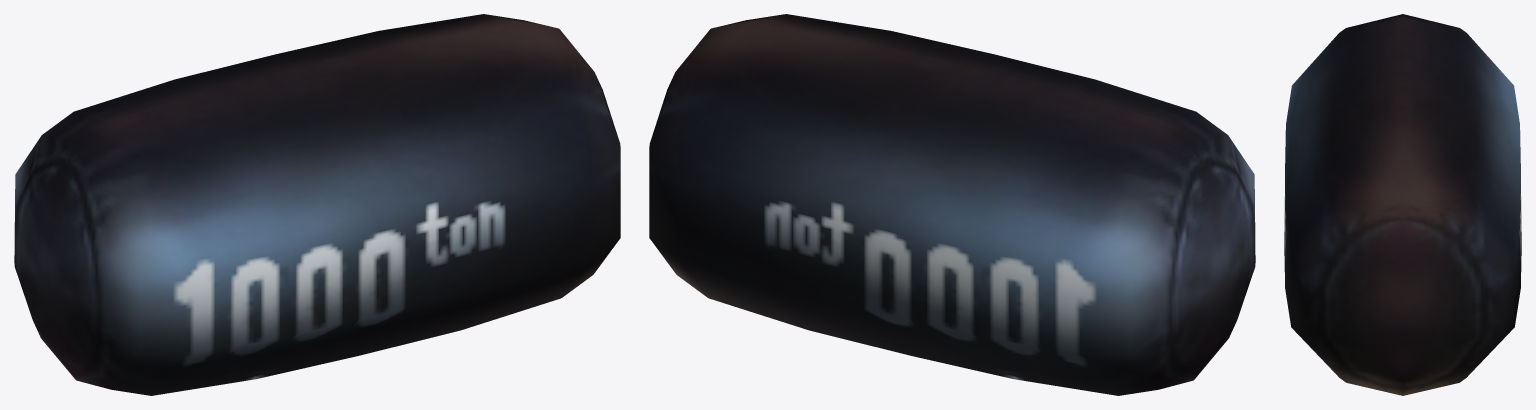
File: bot43_tiechui.FBX
The picture shows the model from 3 angles, left to right: view 1: azimuth 30°, elevation 25°; view 2: azimuth 150°, elevation 25°; view 3: azimuth 270°, elevation 25°; orthographic projection. The views are drawn at different scales.
Parts seen in each view (by area): view 1: ts_bot206_wp; view 2: ts_bot206_wp; view 3: ts_bot206_wp.
Boxes of the visible parts, x1,y1,x2,y2 form: ts_bot206_wp: (14,14,620,395); ts_bot206_wp: (649,14,1255,395); ts_bot206_wp: (1284,14,1521,395).
Bounding box in the file's own units: 0.7572 × 0.3736 × 0.3562.
